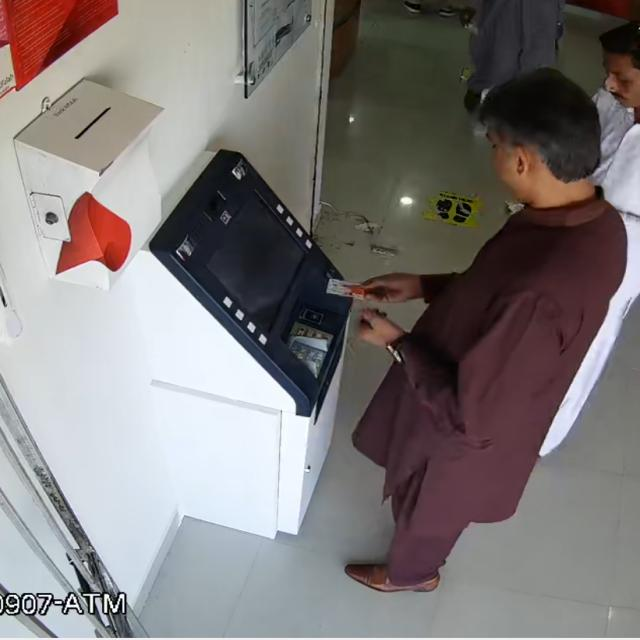atm-card: (317, 270, 381, 308)
